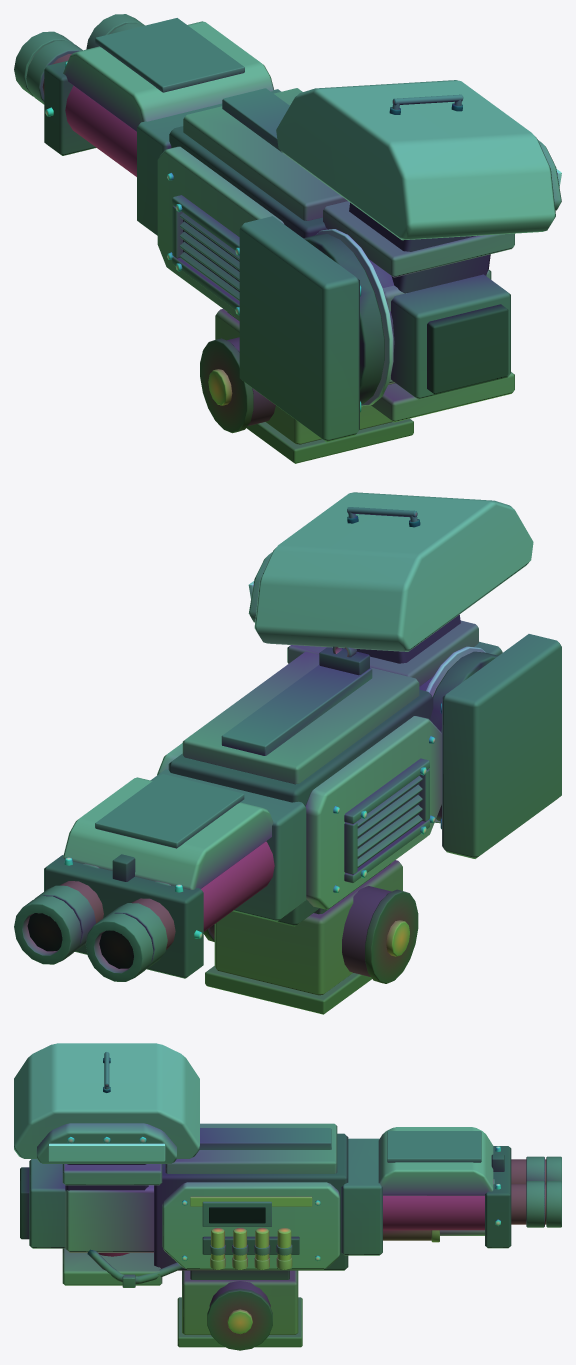
File: arm_shotgun.glb
3 renders of one model, top to bottom at view 1: azimuth 30°, elevation 25°; view 2: azimuth 150°, elevation 25°; view 3: azimuth 270°, elevation 25°, orthographic. The views are drawn at different scales.
Visible parts, largest first — view 1: Body__gunmetal, Body__armor, Body__armor_sub, Body__dark, Body__rubber, Body__chrome, Body__brass, Body__armor_dark; view 2: Body__gunmetal, Body__armor, Body__armor_sub, Body__dark, Body__armor_dark, Body__bore, Body__chrome, Body__brass; view 3: Body__armor, Body__gunmetal, Body__armor_sub, Body__dark, Body__accent, Body__hazard, Body__brass, Body__bore, Body__rubber, Body__chrome, Body__armor_dark.
Boxes of the visible parts, x1,y1,x2,y2 form: Body__gunmetal: (14, 14, 510, 463); Body__armor: (63, 21, 555, 384); Body__armor_sub: (183, 88, 561, 444); Body__dark: (42, 54, 490, 433); Body__rubber: (427, 304, 508, 394); Body__chrome: (45, 61, 393, 412); Body__brass: (208, 369, 232, 405); Body__armor_dark: (227, 337, 275, 425); Body__gunmetal: (14, 507, 561, 1014); Body__armor: (63, 492, 533, 909); Body__armor_sub: (182, 552, 478, 995); Body__dark: (44, 515, 498, 983); Body__armor_dark: (210, 886, 391, 976); Body__bore: (27, 913, 133, 968); Body__chrome: (64, 646, 485, 938); Body__brass: (386, 920, 409, 956); Body__armor: (14, 1043, 493, 1269); Body__gunmetal: (29, 1052, 561, 1347); Body__armor_sub: (36, 1123, 337, 1334); Body__dark: (65, 1057, 546, 1350); Body__accent: (190, 1196, 312, 1260); Body__hazard: (48, 1143, 165, 1161); Body__brass: (210, 1230, 439, 1333); Body__bore: (209, 1207, 265, 1223); Body__rubber: (20, 1167, 29, 1239); Body__chrome: (67, 1137, 500, 1261); Body__armor_dark: (209, 1281, 270, 1306).
Size of the model in its own units: 0.6826 by 1.08 by 1.97.
